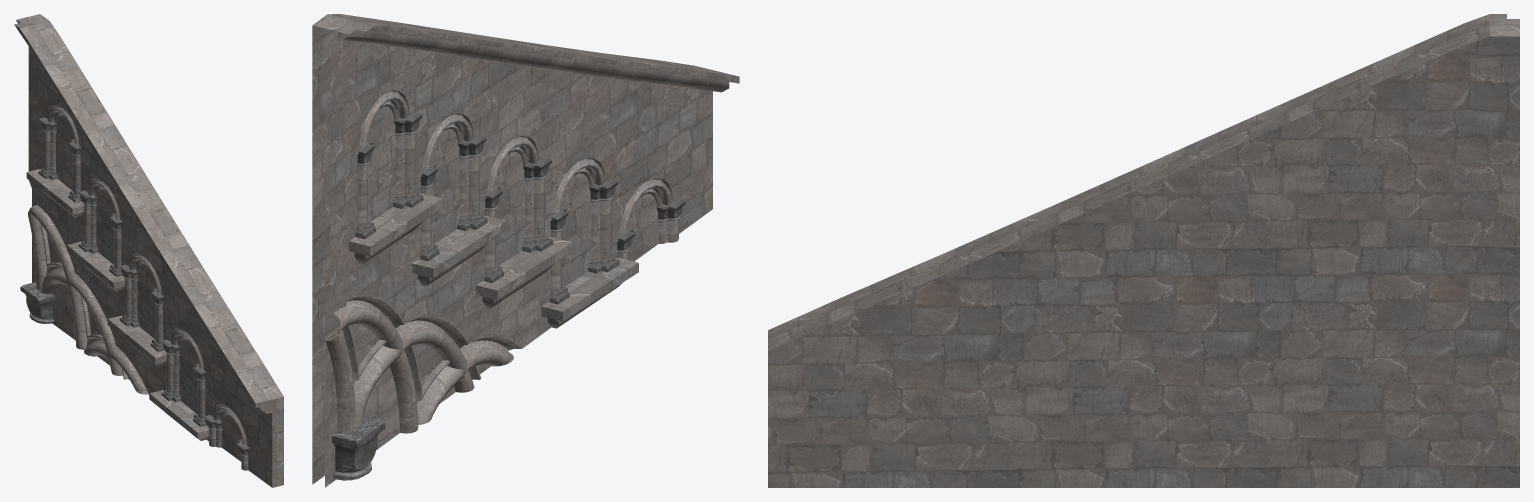
3 renders of one model, left to right at view 1: azimuth 30°, elevation 25°; view 2: azimuth 150°, elevation 25°; view 3: azimuth 270°, elevation 25°, orthographic. The views are drawn at different scales.
Parts seen in each view (by area): view 1: SM_DungeonStairwayWallRv1_LOD0; view 2: SM_DungeonStairwayWallRv1_LOD0; view 3: SM_DungeonStairwayWallRv1_LOD0.
Part boxes in pixels (<box>): SM_DungeonStairwayWallRv1_LOD0: <box>14,14,283,487</box>; SM_DungeonStairwayWallRv1_LOD0: <box>312,14,739,487</box>; SM_DungeonStairwayWallRv1_LOD0: <box>768,14,1519,487</box>.
Size of the model in its own units: 0.4442 by 4.11 by 6.2.
Materials: 2 (2 with a texture image).
